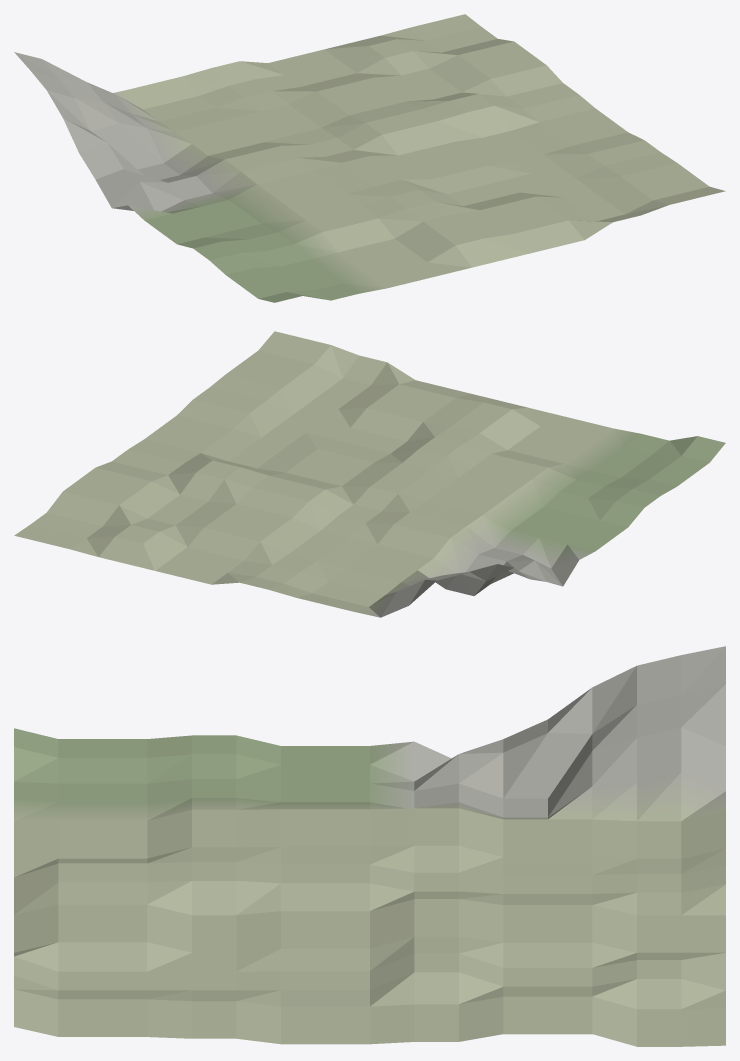
The picture shows the model from 3 angles, top to bottom: view 1: azimuth 30°, elevation 25°; view 2: azimuth 150°, elevation 25°; view 3: azimuth 270°, elevation 25°; orthographic projection. The views are drawn at different scales.
Bounding box in the file's own units: 32 × 5.78 × 32.
